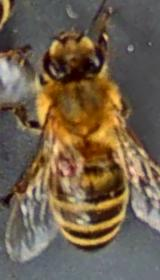varroa_mite: (46, 156, 78, 181)
